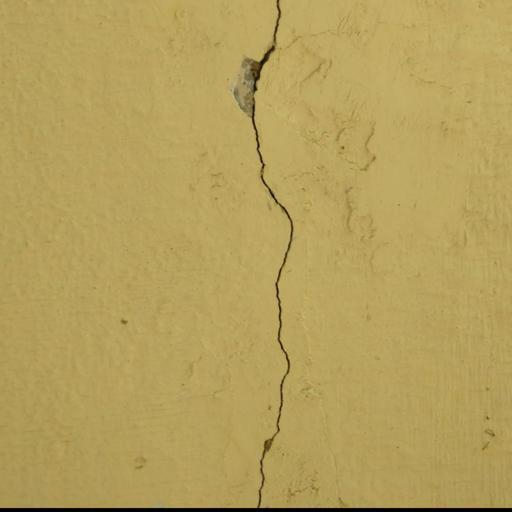major_crack: (229, 0, 305, 507)
